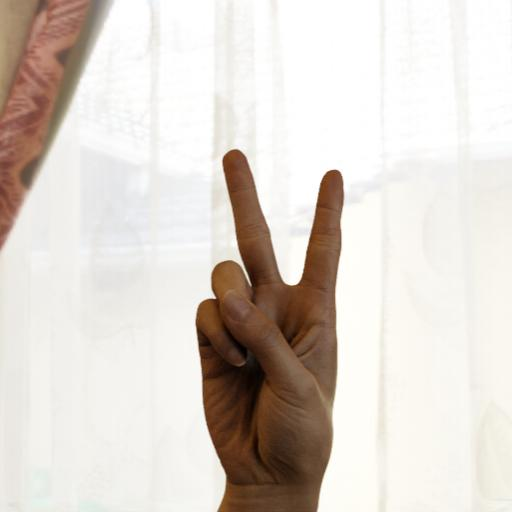V: (175, 140, 358, 512)
